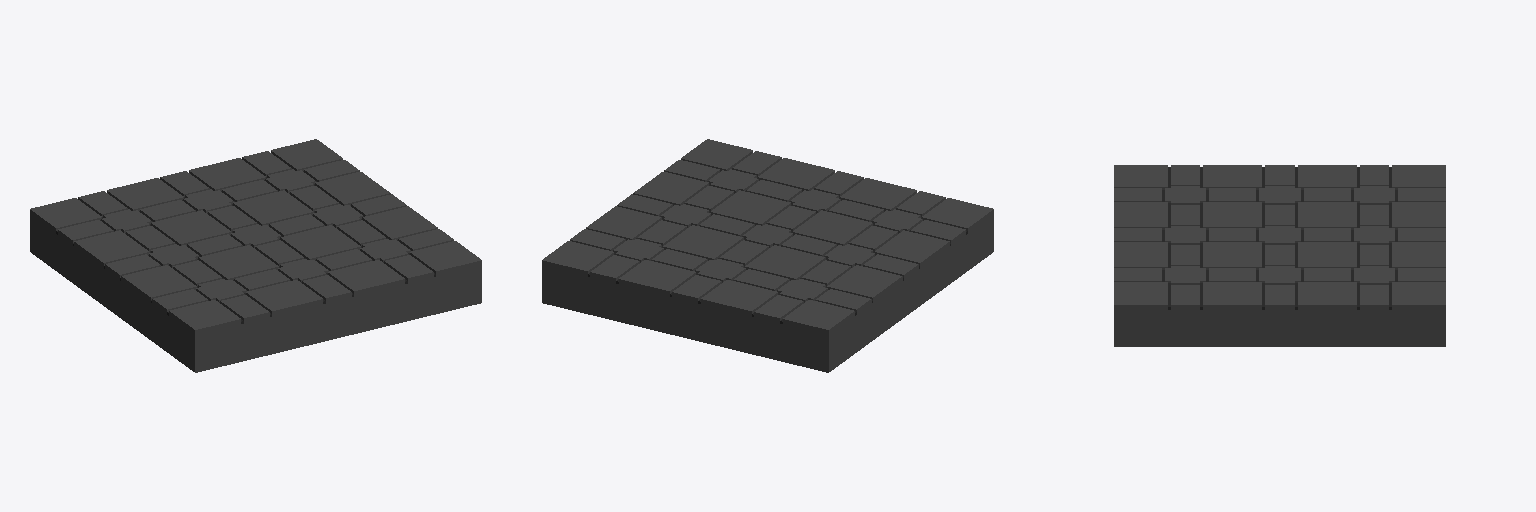
3 renders of one model, left to right at view 1: azimuth 30°, elevation 25°; view 2: azimuth 150°, elevation 25°; view 3: azimuth 270°, elevation 25°, orthographic.
Parts seen in each view (by area): view 1: Floor1; view 2: Floor1; view 3: Floor1.
Part boxes in pixels (x1,y1,x2,y2): Floor1: (30, 139, 481, 372); Floor1: (542, 139, 993, 372); Floor1: (1114, 165, 1445, 346).
Bounding box in the file's own units: 7.06 × 1.01 × 7.06.
Materials: 1 (1 with a texture image).